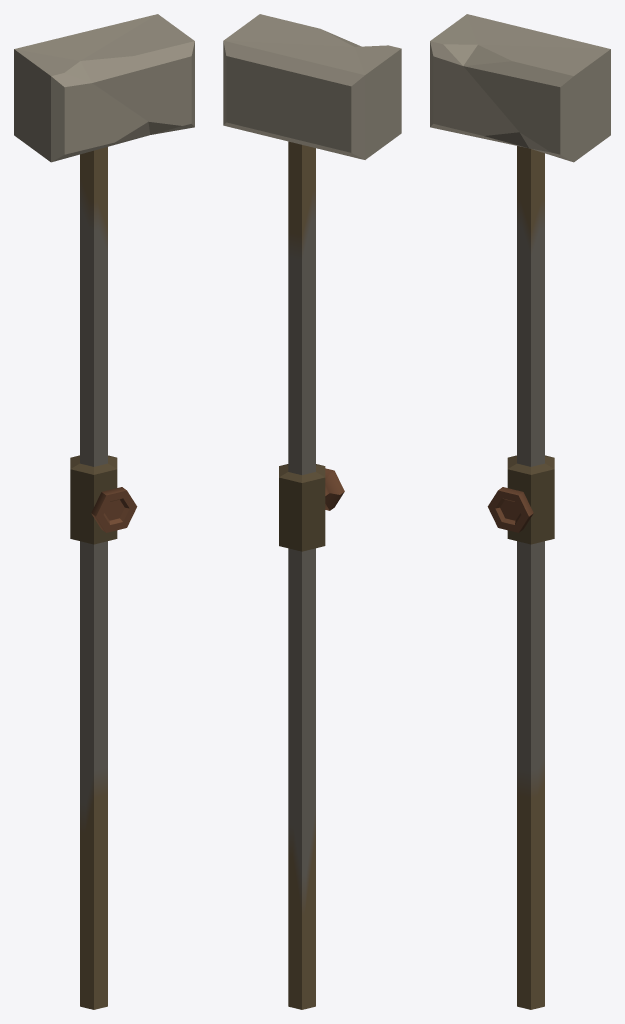
Rendered from SM_Prop_Bathroom_Pipes_02.glb.
3 views of the same model, side by side, from view 1: azimuth 30°, elevation 25°; view 2: azimuth 150°, elevation 25°; view 3: azimuth 330°, elevation 25° (orthographic).
Parts seen in each view (by area): view 1: SM_Prop_Bathroom_Pipes_02; view 2: SM_Prop_Bathroom_Pipes_02; view 3: SM_Prop_Bathroom_Pipes_02.
Part boxes in pixels (left/top/right/bottom): SM_Prop_Bathroom_Pipes_02: left=14, top=14, right=194, bottom=1009; SM_Prop_Bathroom_Pipes_02: left=223, top=14, right=401, bottom=1009; SM_Prop_Bathroom_Pipes_02: left=430, top=14, right=610, bottom=1009.
Bounding box in the file's own units: 0.3319 × 2.13 × 0.1903.
Materials: 1 (1 with a texture image).
